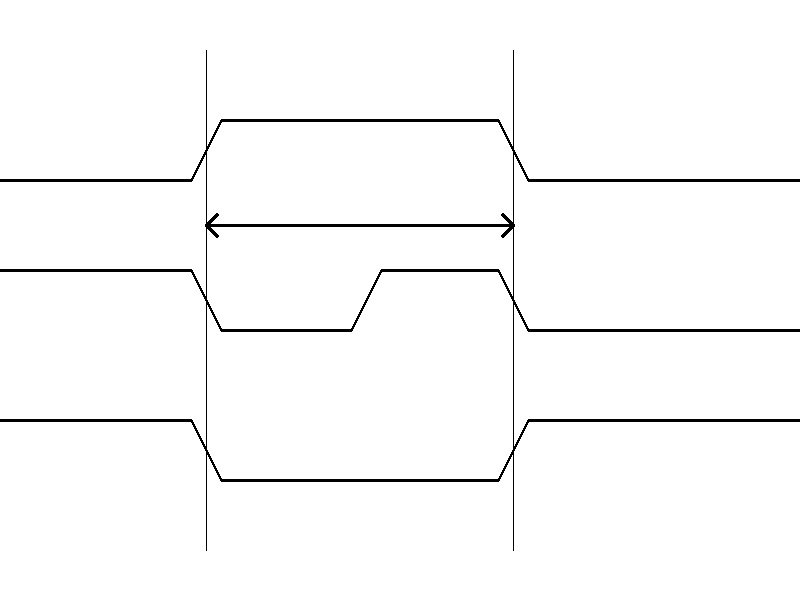double_arrow: (206, 210, 513, 240)
